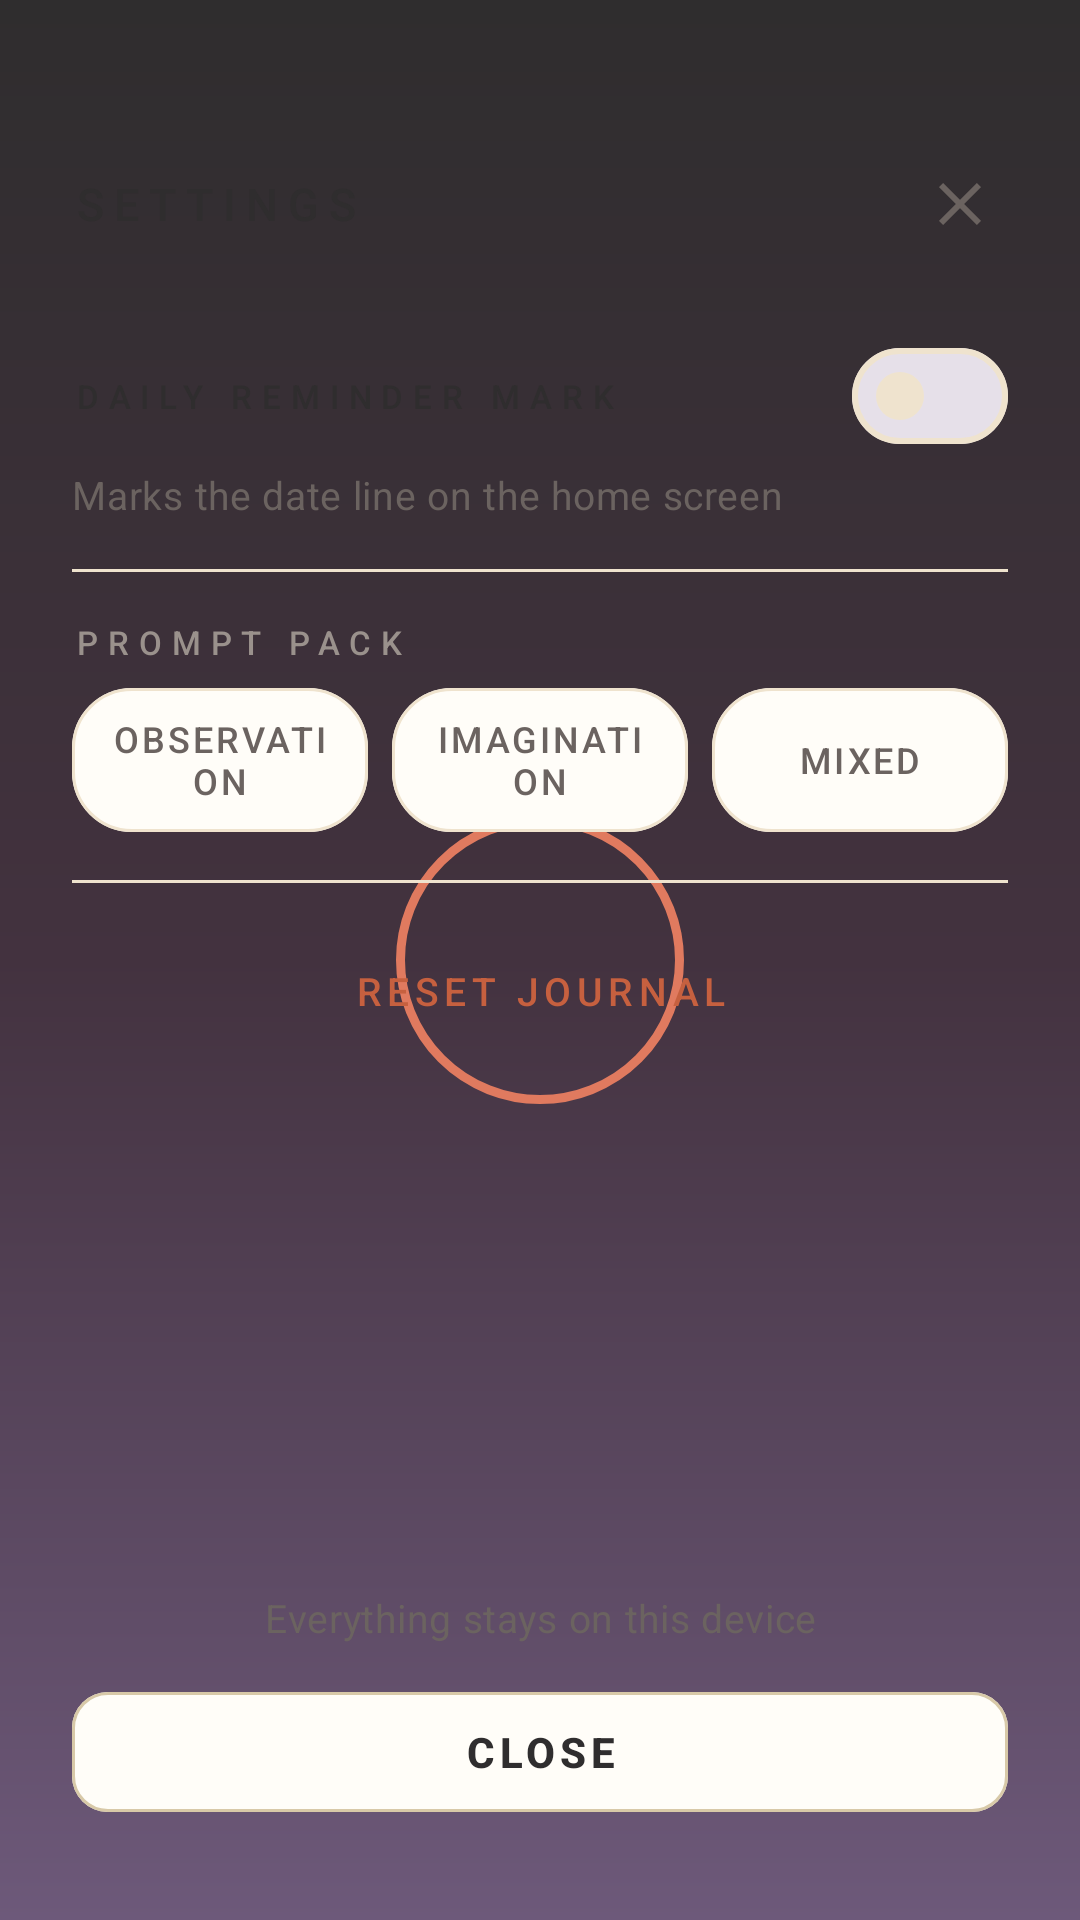

Icons on this 1080 x 1920 Android screen, each with the point to tap as point (x, y):
Close: point (960, 204)
